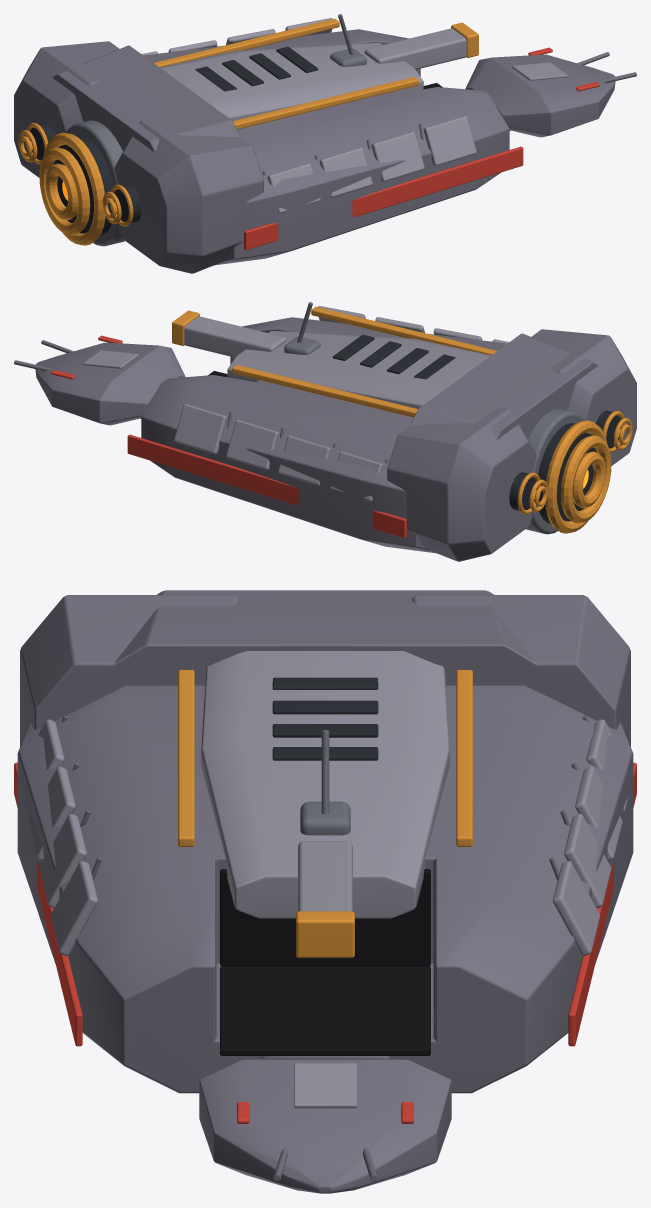
Rendered from transporter.glb.
3 views of the same model, one above another, from view 1: azimuth 30°, elevation 25°; view 2: azimuth 150°, elevation 25°; view 3: azimuth 270°, elevation 25° (orthographic). The views are drawn at different scales.
Parts seen in each view (by area): view 1: Broad tapered cargo hull, Faceted rear drive shoulder, Raised longitudinal spine, Rear engine bridge, Flattened separate nose cap, Faceted rear drive shoulder.001, Continuous red side stripe, Forward overhang spine, Main drive copper nozzle ring.001, Main drive copper nozzle ring, Top copper utility rail, Inset sloped side plate.003 (+16 smaller); view 2: Broad tapered cargo hull, Faceted rear drive shoulder.001, Raised longitudinal spine, Rear engine bridge, Flattened separate nose cap, Faceted rear drive shoulder, Continuous red side stripe.001, Forward overhang spine, Main drive copper nozzle ring.001, Main drive copper nozzle ring, Top copper utility rail.001, Inset sloped side plate.007 (+16 smaller); view 3: Broad tapered cargo hull, Raised longitudinal spine, Rear engine bridge, Flattened separate nose cap, Recessed forward floor, Faceted rear drive shoulder.001, Faceted rear drive shoulder, Recessed forward bulkhead, Forward overhang spine, Top copper utility rail, Top copper utility rail.001, Prow service hatch (+16 smaller).
Part boxes in pixels (bbox=[...]): Broad tapered cargo hull: bbox=[144, 29, 509, 265]; Faceted rear drive shoulder: bbox=[114, 119, 263, 273]; Raised longitudinal spine: bbox=[160, 43, 423, 120]; Rear engine bridge: bbox=[53, 45, 240, 151]; Flattened separate nose cap: bbox=[465, 54, 615, 137]; Faceted rear drive shoulder.001: bbox=[14, 41, 119, 177]; Continuous red side stripe: bbox=[244, 146, 523, 250]; Forward overhang spine: bbox=[364, 28, 466, 69]; Main drive copper nozzle ring.001: bbox=[39, 147, 90, 235]; Main drive copper nozzle ring: bbox=[43, 132, 105, 245]; Top copper utility rail: bbox=[233, 77, 418, 129]; Inset sloped side plate.003: bbox=[423, 116, 476, 166]; Broad tapered cargo hull: bbox=[141, 317, 506, 553]; Faceted rear drive shoulder.001: bbox=[387, 407, 536, 561]; Raised longitudinal spine: bbox=[227, 331, 490, 408]; Rear engine bridge: bbox=[410, 333, 597, 439]; Flattened separate nose cap: bbox=[35, 342, 185, 425]; Faceted rear drive shoulder: bbox=[531, 329, 636, 465]; Continuous red side stripe.001: bbox=[127, 434, 406, 538]; Forward overhang spine: bbox=[184, 316, 286, 357]; Main drive copper nozzle ring.001: bbox=[560, 435, 611, 523]; Main drive copper nozzle ring: bbox=[545, 420, 607, 533]; Top copper utility rail.001: bbox=[232, 365, 417, 417]; Inset sloped side plate.007: bbox=[174, 404, 227, 454]; Broad tapered cargo hull: bbox=[17, 685, 633, 1093]; Raised longitudinal spine: bbox=[201, 651, 449, 918]; Rear engine bridge: bbox=[56, 590, 594, 719]; Flattened separate nose cap: bbox=[199, 1057, 451, 1193]; Recessed forward floor: bbox=[220, 966, 430, 1055]; Faceted rear drive shoulder.001: bbox=[411, 595, 630, 746]; Faceted rear drive shoulder: bbox=[20, 595, 239, 746]; Recessed forward bulkhead: bbox=[220, 869, 430, 966]; Forward overhang spine: bbox=[298, 841, 352, 911]; Top copper utility rail: bbox=[178, 670, 194, 846]; Top copper utility rail.001: bbox=[456, 670, 472, 846]; Prow service hatch: bbox=[294, 1063, 356, 1108].
Size of the model in its own units: 5.42 by 1.64 by 2.96.
